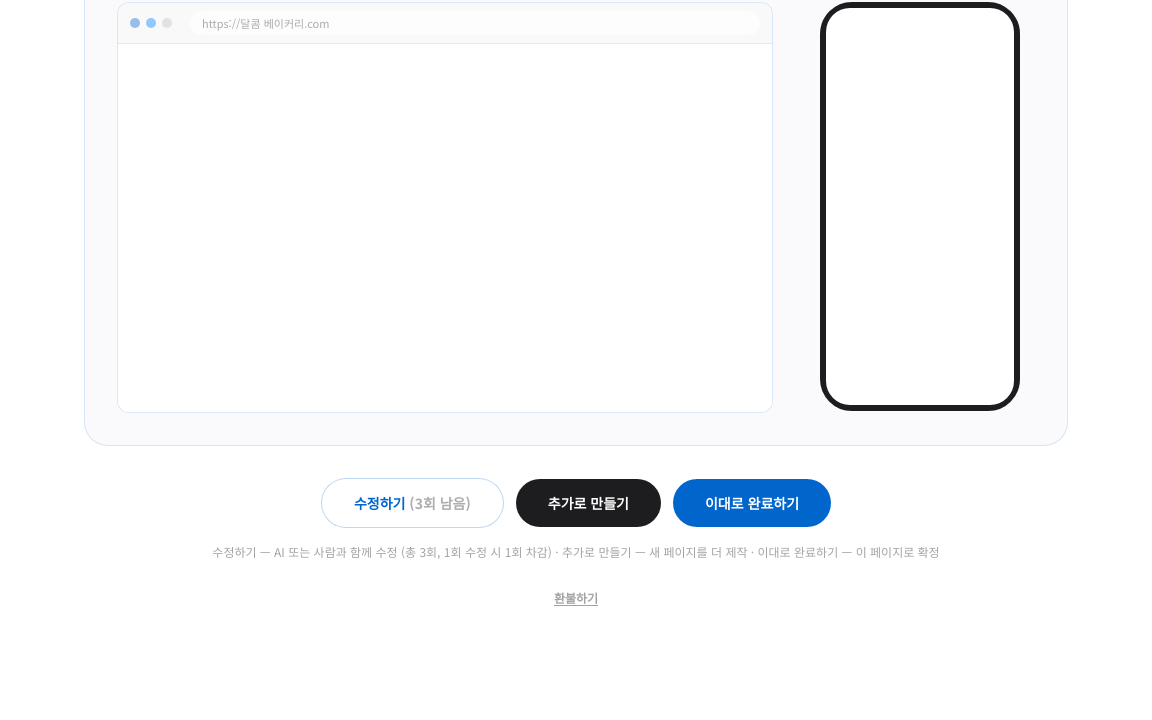
OrderResultPage 환불 › 환불하기 버튼을 누르면 확인 모달과 이유 입력란이 열린다
(page scrolled)
Click the button "환불하기": (576, 598) top-left (554, 590), bottom-right (598, 606)
(page scrolled)
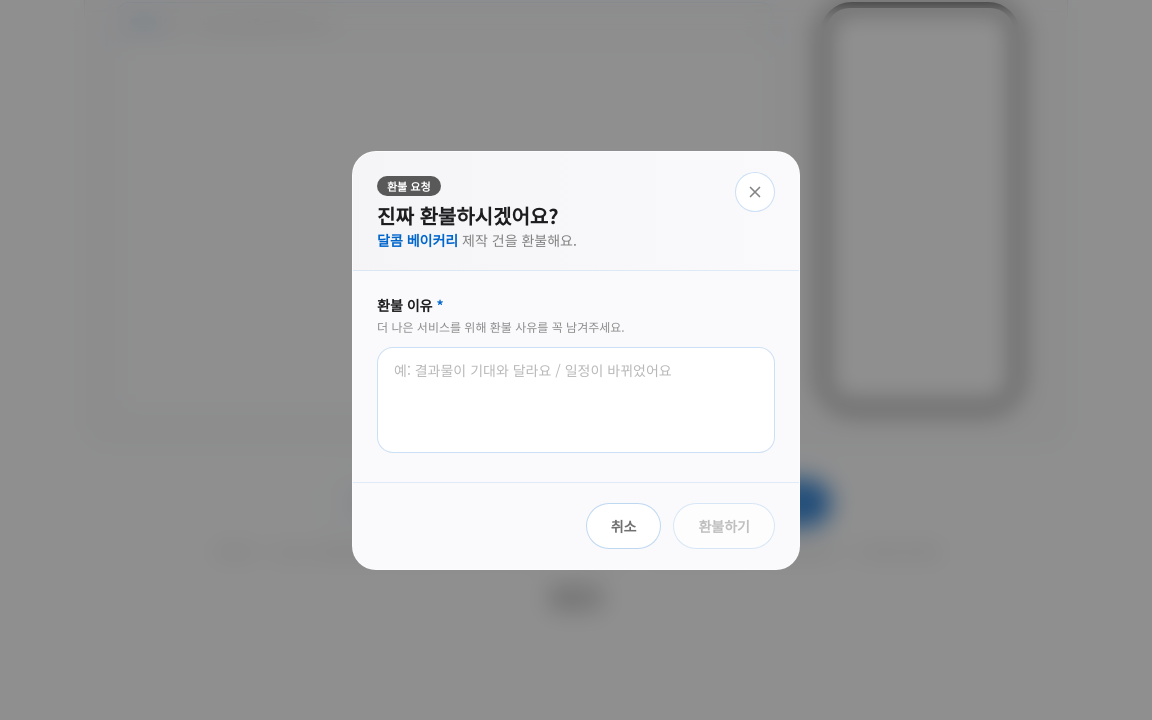
Expected: the heading "진짜 환불하시겠어요?" is shown, top-left (377, 202), bottom-right (577, 230)
Expected: the text box labelled "환불 이유 *" is shown, top-left (377, 346), bottom-right (775, 452)
